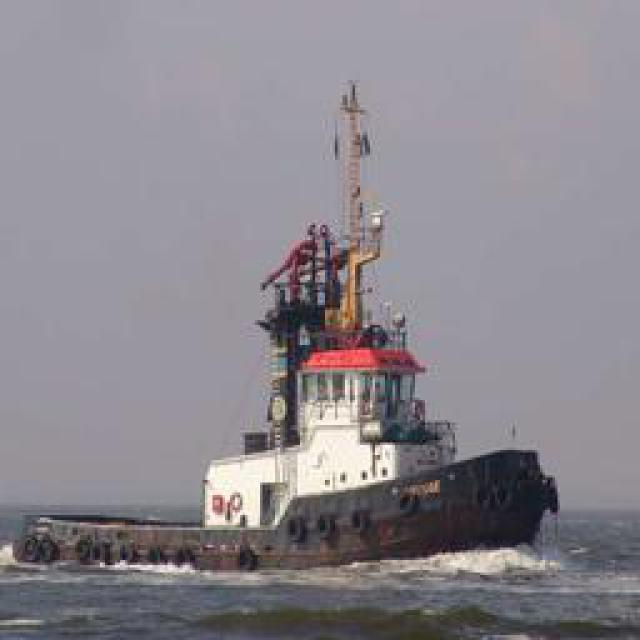Ship: (5, 73, 573, 586)
